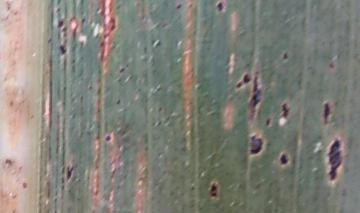tarspot: (324, 134, 344, 184), (248, 69, 265, 113), (247, 132, 265, 155), (206, 179, 221, 200), (234, 70, 250, 89), (321, 100, 333, 124), (279, 100, 290, 123), (62, 165, 75, 183), (55, 43, 70, 58), (277, 151, 291, 167), (101, 133, 113, 145), (264, 115, 272, 133), (279, 50, 291, 62), (214, 1, 225, 13), (55, 18, 66, 30), (174, 2, 184, 12)
